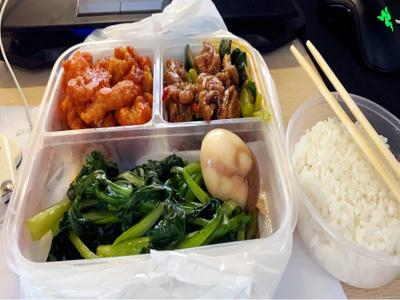gbr: (56, 42, 159, 131)
rice: (295, 100, 399, 258)
ymc: (46, 145, 199, 249)
